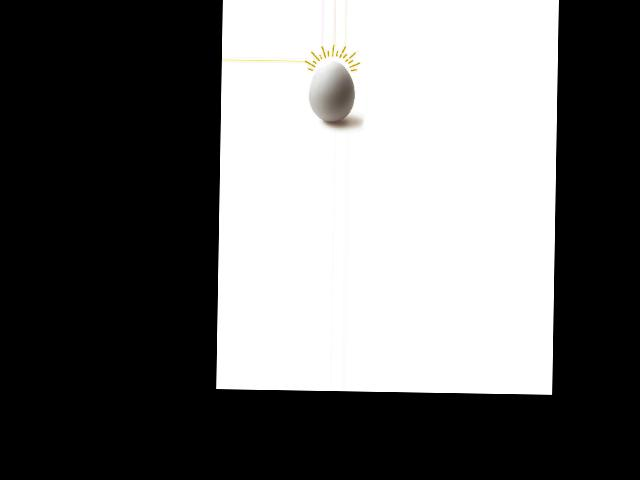egg: (307, 61, 354, 122)
